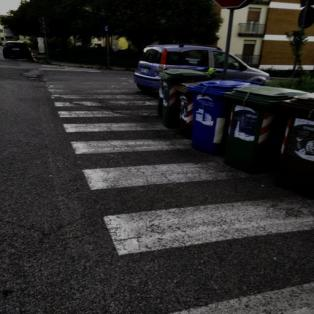Paso de Cebra: (69, 161, 314, 259)
